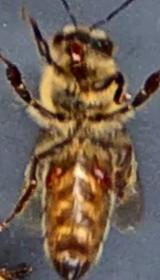varroa_mite: (82, 153, 116, 194), (44, 158, 70, 183)
